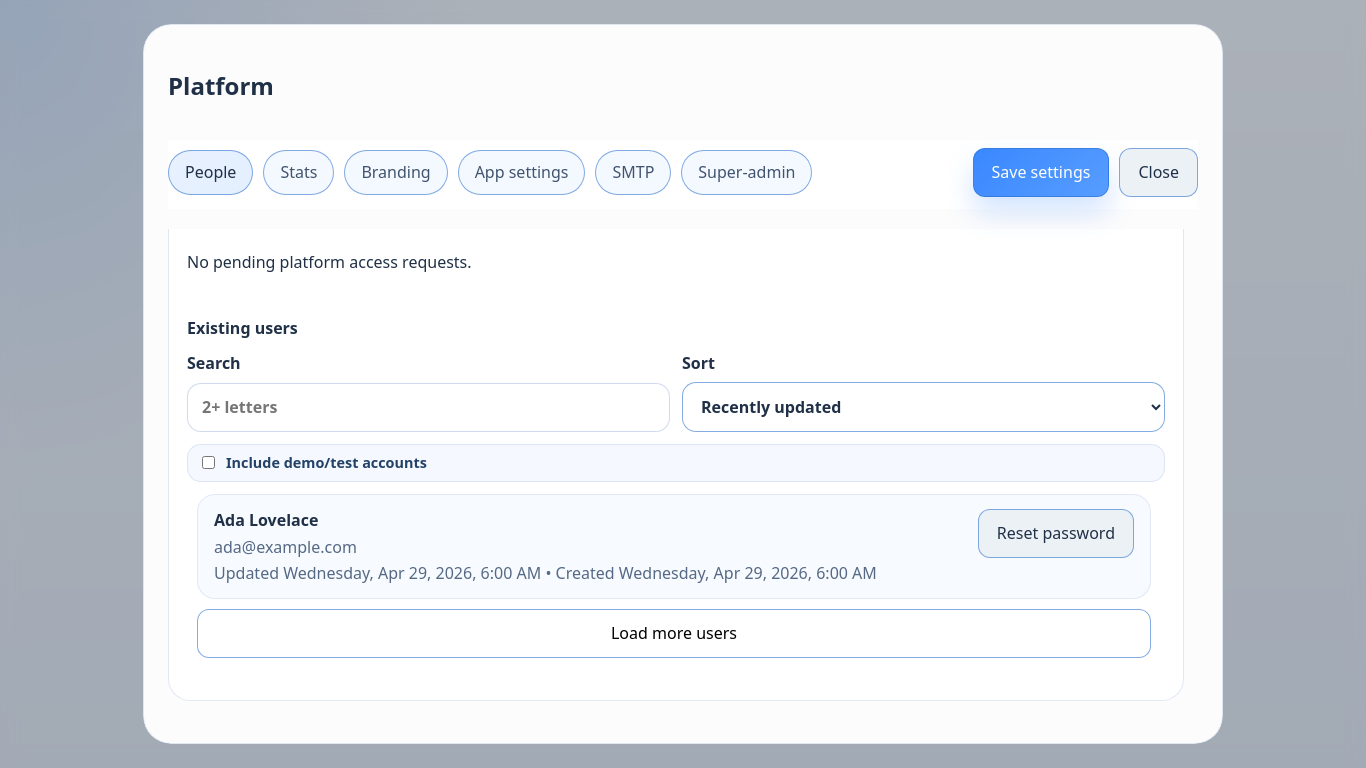
App › appends loaded platform people pages without a background reset
The width and height of the screenshot is (1366, 768).
(page scrolled)
Check: the text "Ada Lovelace" is shown, box [214,509,318,531]
Step 1. Click the button "Load more users" → (674, 634), box [197,609,1151,658]
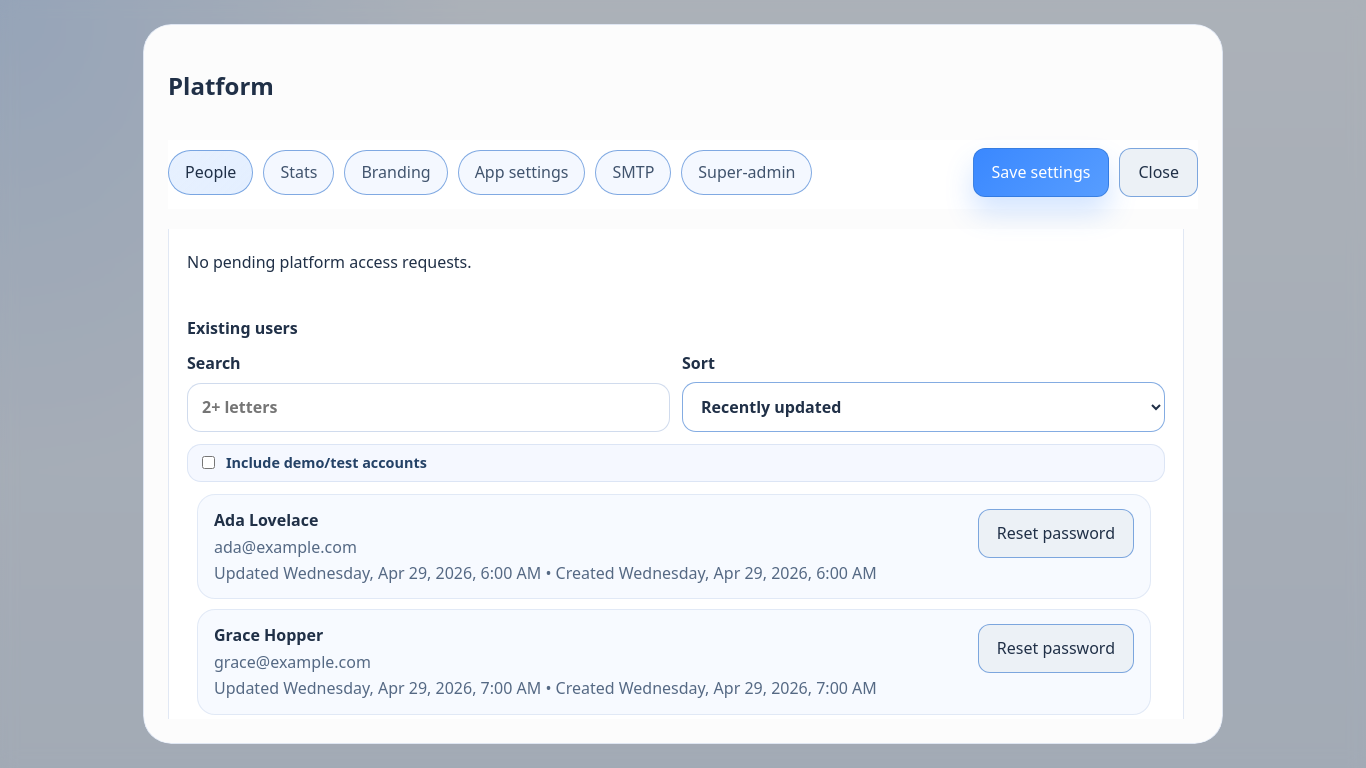
Check: the text "Ada Lovelace" is shown, box [214,509,318,531]
Check: the text "Grace Hopper" is shown, box [214,624,323,646]
